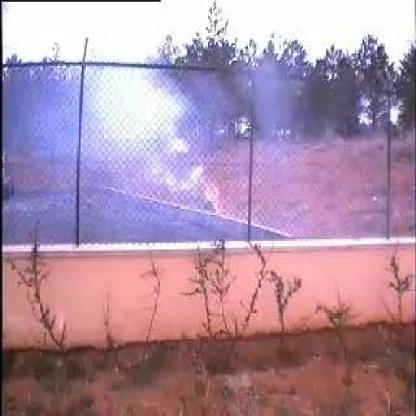-: (22, 62, 226, 236)
